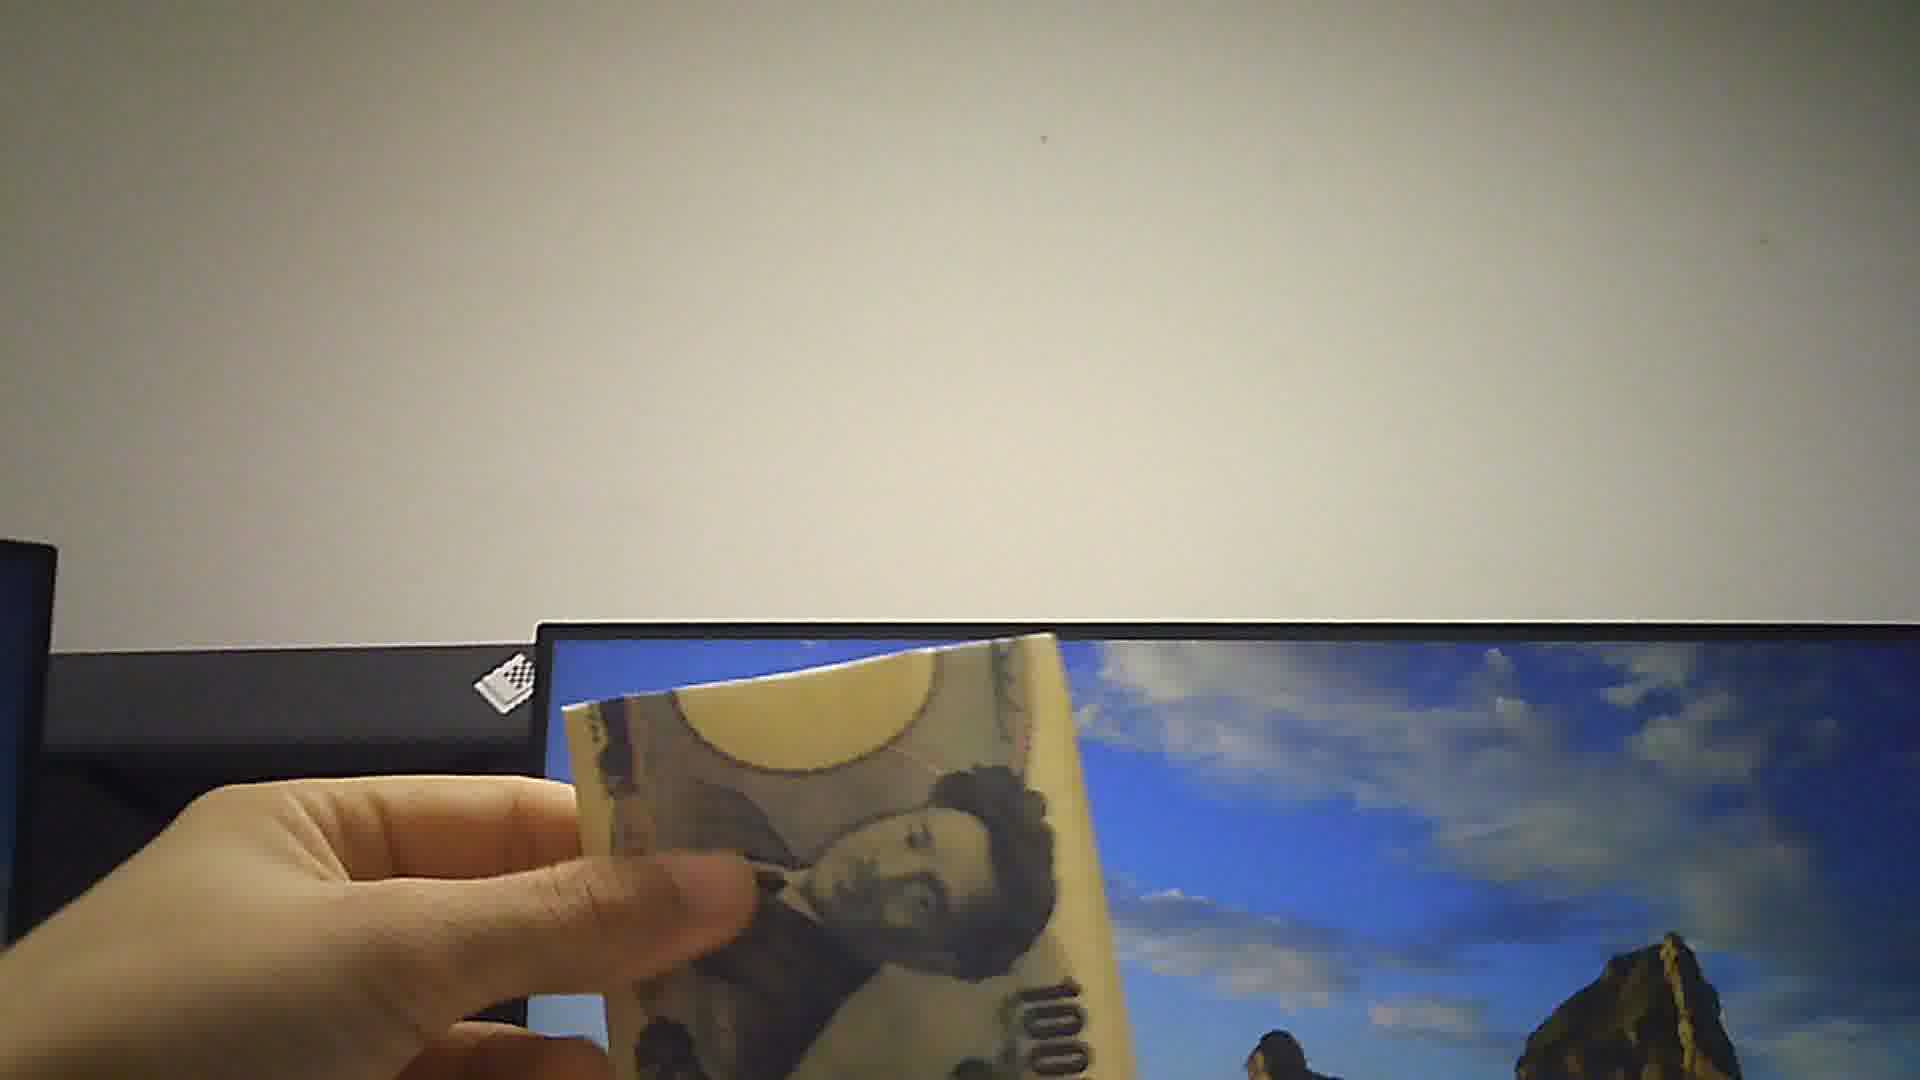1,000 Yen: (560, 629, 1137, 1079)
